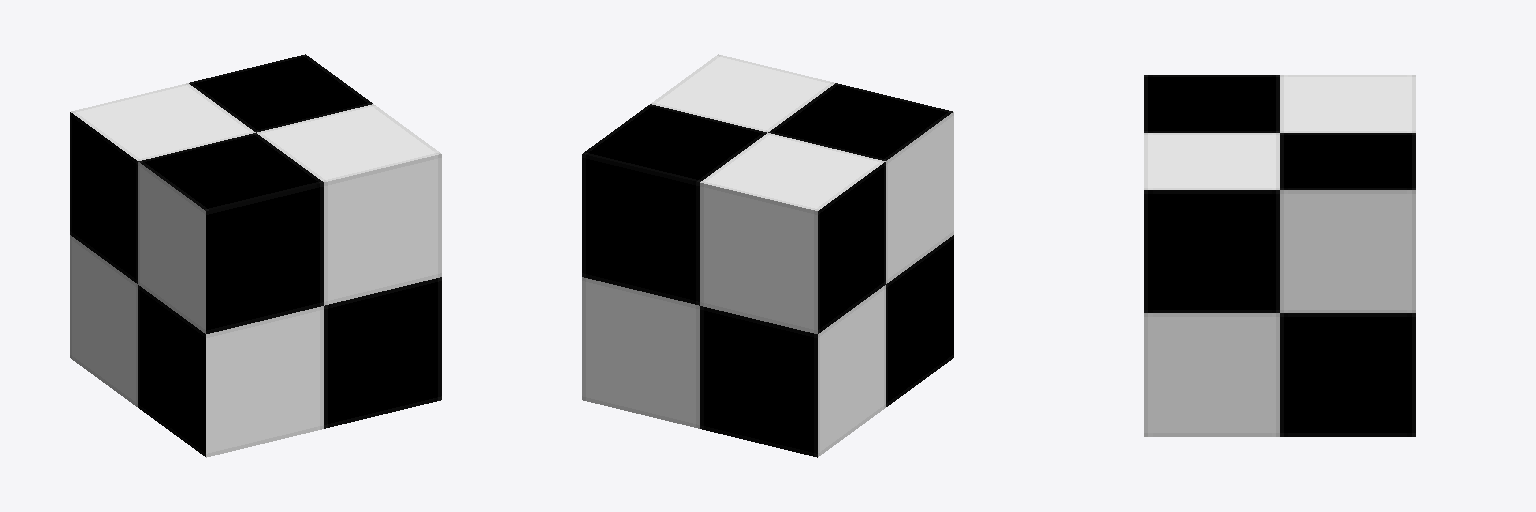
3 renders of one model, left to right at view 1: azimuth 30°, elevation 25°; view 2: azimuth 150°, elevation 25°; view 3: azimuth 270°, elevation 25°, orthographic.
Parts seen in each view (by area): view 1: Cube; view 2: Cube; view 3: Cube.
Part boxes in pixels (x1,y1,x2,y2): Cube: (70,54,441,457); Cube: (582,54,953,457); Cube: (1144,75,1415,436).
Size of the model in its own units: 2 by 2 by 2.
Materials: 1 (1 with a texture image).